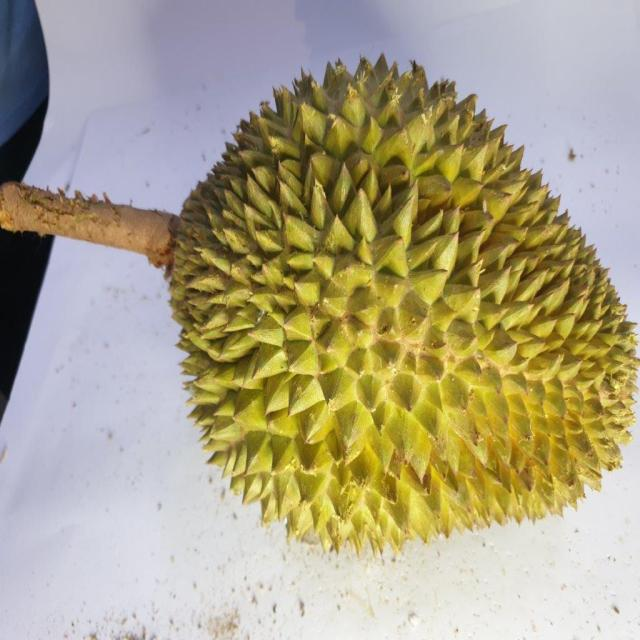immature: (156, 51, 640, 556)
